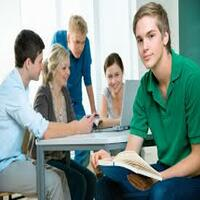person: (128, 3, 180, 68), (11, 18, 49, 92), (64, 8, 96, 65), (99, 42, 128, 103), (40, 39, 70, 91)
